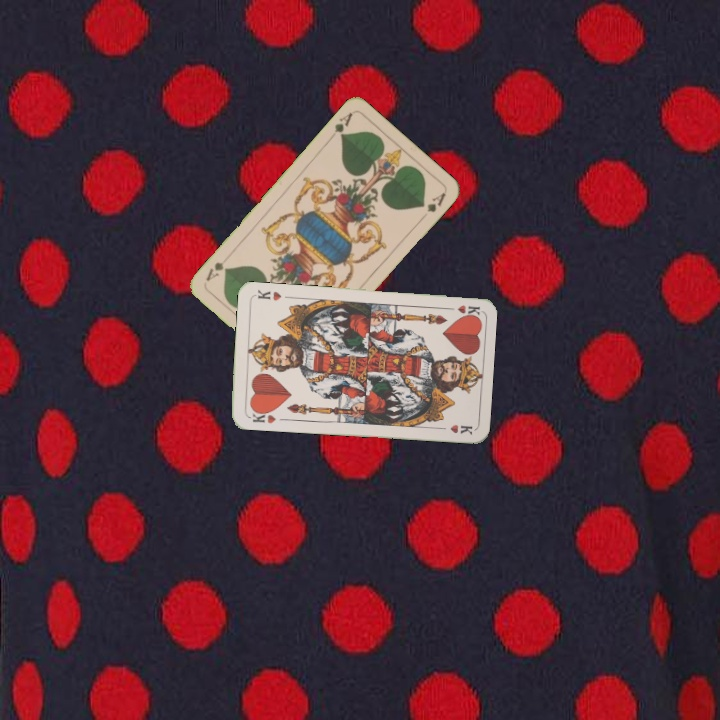GA: (330, 108, 356, 141)
HK: (441, 301, 481, 318), (248, 406, 278, 426)
